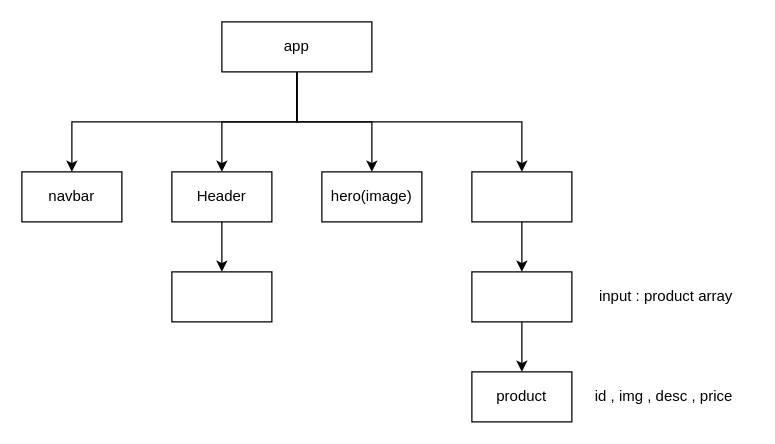
Some shapes in this 775 by 444 pixel diagram are drawn without their labels. Here are the shapes that lost their labels. From the top down, the centre of each, then its label:
At [521,196]: "product page".
At [221,296]: "ham btn".
At [521,296]: "produc list".
